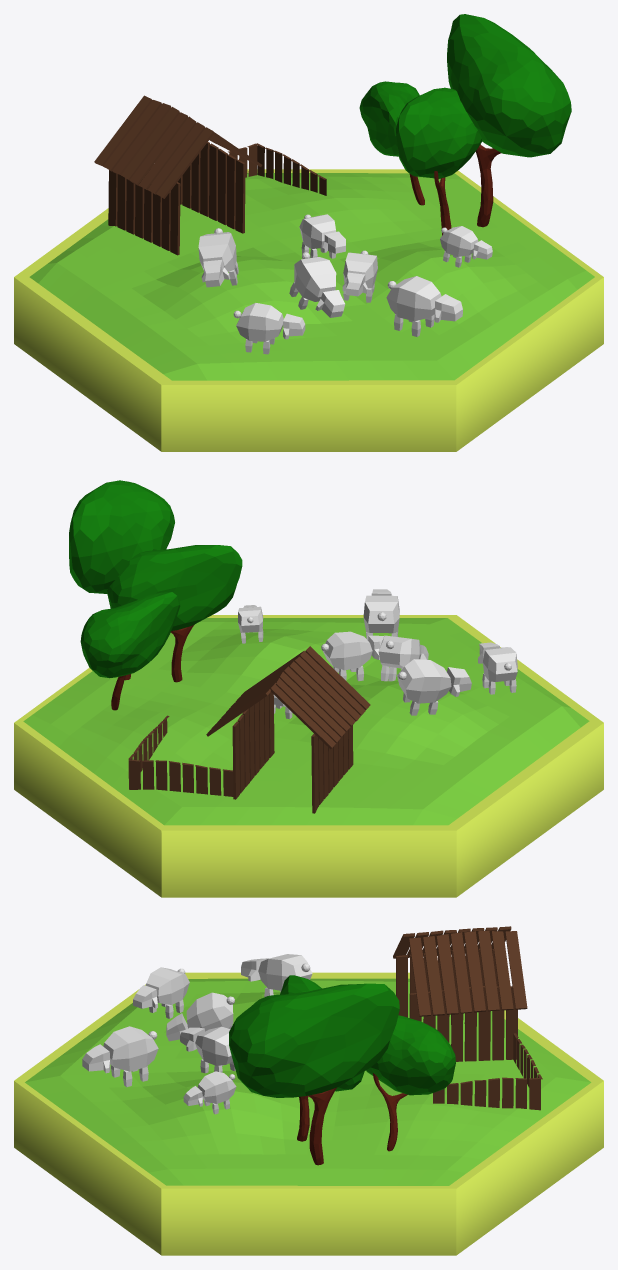
File: pasture1.fbx
3 renders of one model, top to bottom at view 1: azimuth 30°, elevation 25°; view 2: azimuth 150°, elevation 25°; view 3: azimuth 270°, elevation 25°, orthographic.
Parts seen in each view (by area): view 1: Plane, Hexagon, House, Tree.002, Tree.003, Tree.001, Sheep.004, Sheep, Sheep.006, Sheep.001, Sheep.007, Sheep.005 (+1 smaller); view 2: Plane, Hexagon, House, Tree.002, Tree.003, Tree.001, Sheep.001, Sheep.005, Sheep.006, Sheep.004, Sheep, Sheep.003; view 3: Plane, Hexagon, House, Tree.002, Tree.001, Sheep.004, Sheep.006, Sheep, Sheep.001, Sheep.005, Sheep.003, Tree.003.
Part boxes in pixels (bbox=[...]): Plane: bbox=[29, 173, 594, 380]; Hexagon: bbox=[14, 169, 603, 451]; House: bbox=[94, 95, 326, 255]; Tree.002: bbox=[447, 14, 571, 227]; Tree.003: bbox=[396, 87, 482, 235]; Tree.001: bbox=[359, 81, 424, 205]; Sheep.004: bbox=[386, 276, 462, 336]; Sheep: bbox=[289, 252, 345, 317]; Sheep.006: bbox=[233, 303, 305, 354]; Sheep.001: bbox=[198, 228, 238, 287]; Sheep.007: bbox=[299, 214, 345, 258]; Sheep.005: bbox=[342, 250, 377, 302]; Plane: bbox=[23, 618, 589, 825]; Hexagon: bbox=[14, 615, 603, 897]; House: bbox=[128, 646, 370, 813]; Tree.002: bbox=[69, 480, 174, 680]; Tree.003: bbox=[106, 545, 242, 682]; Tree.001: bbox=[80, 592, 180, 710]; Sheep.001: bbox=[397, 659, 471, 715]; Sheep.005: bbox=[321, 631, 383, 681]; Sheep.006: bbox=[478, 642, 517, 694]; Sheep.004: bbox=[363, 589, 399, 640]; Sheep: bbox=[378, 635, 428, 681]; Sheep.003: bbox=[238, 605, 263, 643]; Plane: bbox=[25, 978, 591, 1185]; Hexagon: bbox=[14, 972, 603, 1255]; House: bbox=[393, 926, 542, 1110]; Tree.002: bbox=[229, 983, 399, 1165]; Tree.001: bbox=[366, 1015, 455, 1151]; Sheep.004: bbox=[82, 1026, 158, 1087]; Sheep.006: bbox=[133, 967, 189, 1018]; Sheep: bbox=[166, 992, 234, 1041]; Sheep.001: bbox=[241, 954, 312, 997]; Sheep.005: bbox=[180, 1026, 235, 1073]; Sheep.003: bbox=[183, 1071, 236, 1114]; Tree.003: bbox=[280, 975, 364, 1141].
Size of the model in its own units: 359 by 194 by 400.
